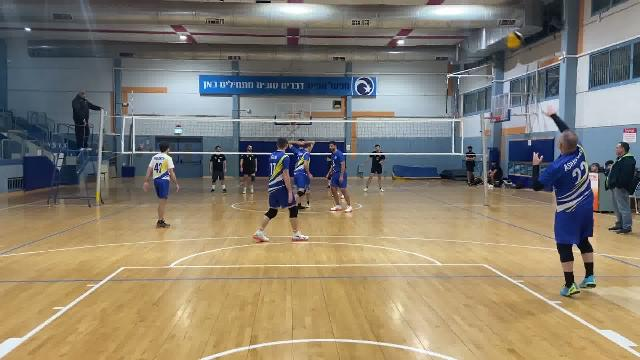ball: (501, 27, 529, 51)
